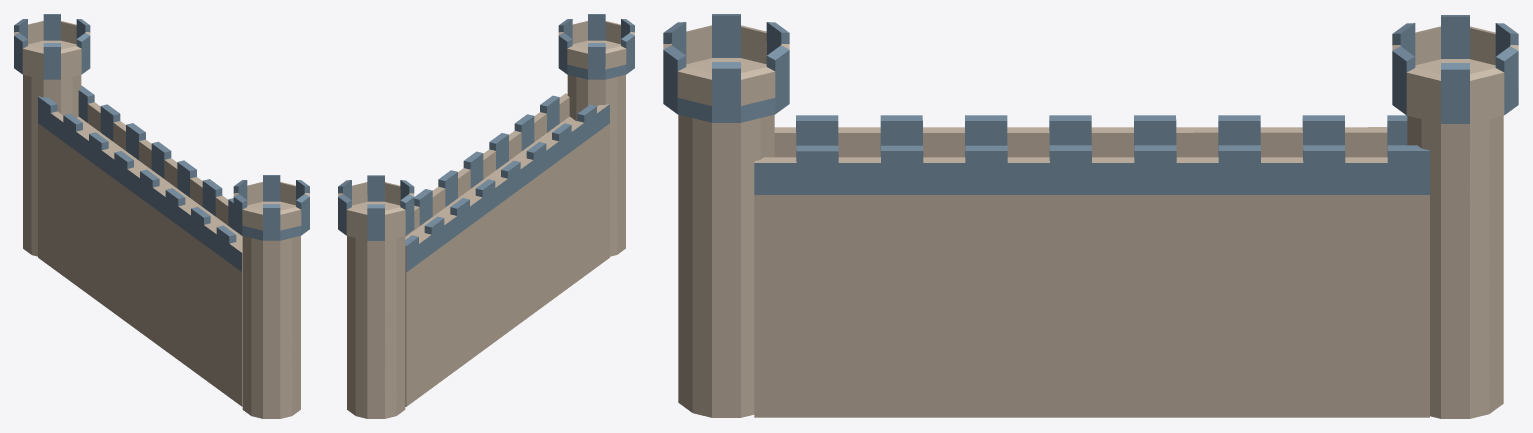
File: Wall3.fbx
3 views of the same model, side by side, from view 1: azimuth 30°, elevation 25°; view 2: azimuth 150°, elevation 25°; view 3: azimuth 270°, elevation 25° (orthographic). The views are drawn at different scales.
Parts seen in each view (by area): view 1: Wall3; view 2: Wall3; view 3: Wall3.
Boxes of the visible parts, x1=… form: Wall3: x1=14, y1=14, x2=309, y2=418; Wall3: x1=338, y1=14, x2=634, y2=418; Wall3: x1=663, y1=14, x2=1518, y2=418.
Size of the model in its own units: 309 by 940 by 2022.
